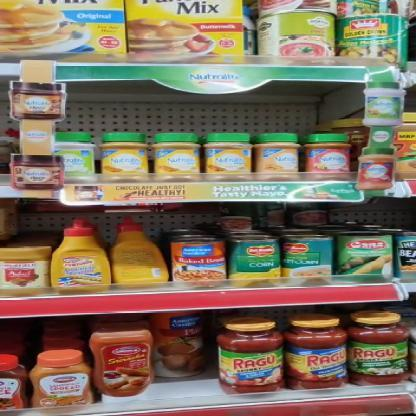Nutralite ACHARI MAYO 300g-275g-25g-: (204, 132, 249, 180), (157, 134, 202, 182), (102, 132, 146, 178)
Nutralite CHEESY GARLIC MAYO 300g-275g-25g-: (255, 132, 300, 178)
Nutralite TANDOORI MAYO 300g-275g-25g-: (309, 134, 353, 178)
Nutralite VEG MAYO 300g-275g-25g-: (52, 132, 94, 180)
